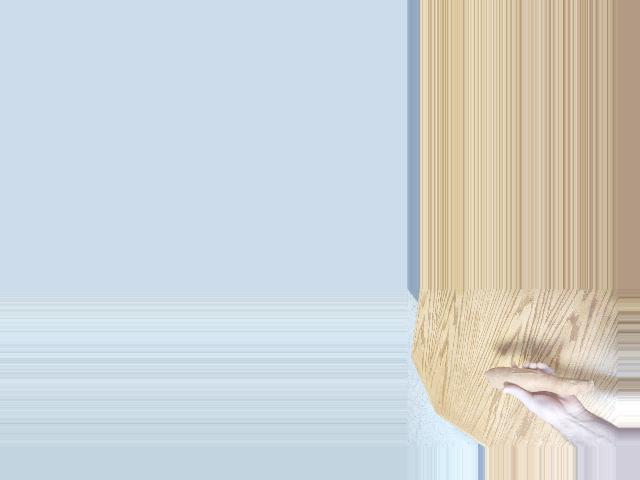sweet_potato: (482, 363, 599, 397)
